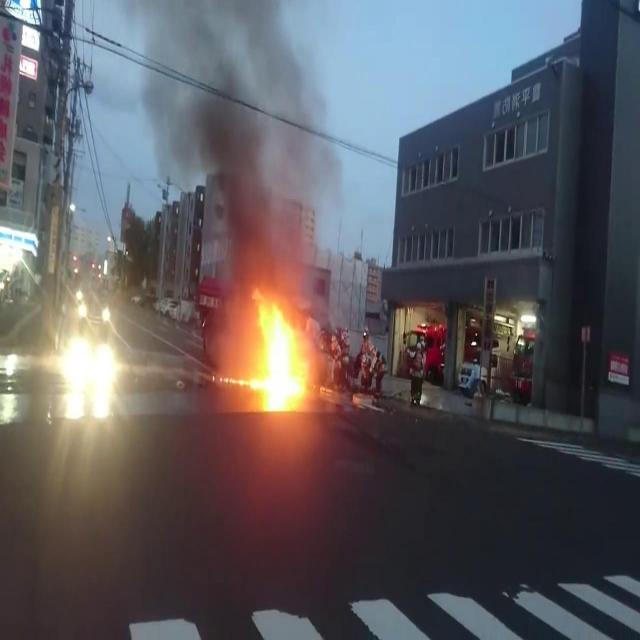fire: (226, 285, 314, 415)
